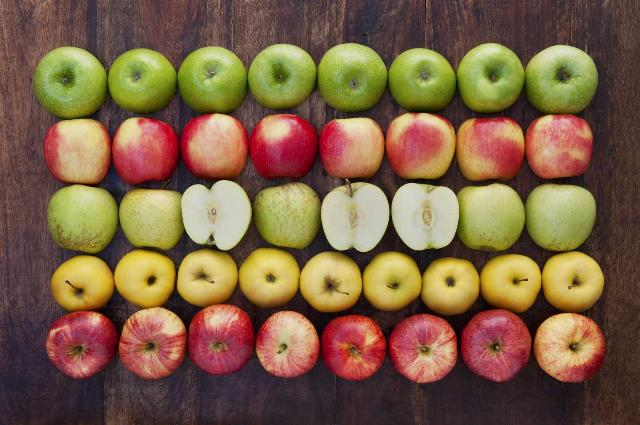green apple: (34, 47, 109, 120), (525, 46, 599, 115), (318, 43, 388, 112), (525, 185, 597, 252), (46, 186, 118, 252), (456, 184, 526, 251), (179, 47, 248, 114), (458, 43, 525, 112), (324, 184, 391, 253), (181, 183, 251, 249), (250, 45, 317, 112), (109, 49, 177, 115), (392, 185, 460, 251), (387, 49, 456, 114), (256, 183, 322, 250), (120, 191, 186, 251)
red apple: (462, 311, 533, 384), (534, 315, 607, 385), (388, 315, 458, 386), (119, 310, 189, 381), (48, 313, 120, 380), (386, 112, 456, 180), (111, 118, 181, 186), (181, 113, 250, 181), (189, 306, 255, 376), (458, 116, 527, 182), (45, 119, 113, 185), (526, 116, 595, 181), (250, 114, 317, 180), (322, 316, 386, 382), (256, 312, 320, 378), (320, 118, 387, 179)
